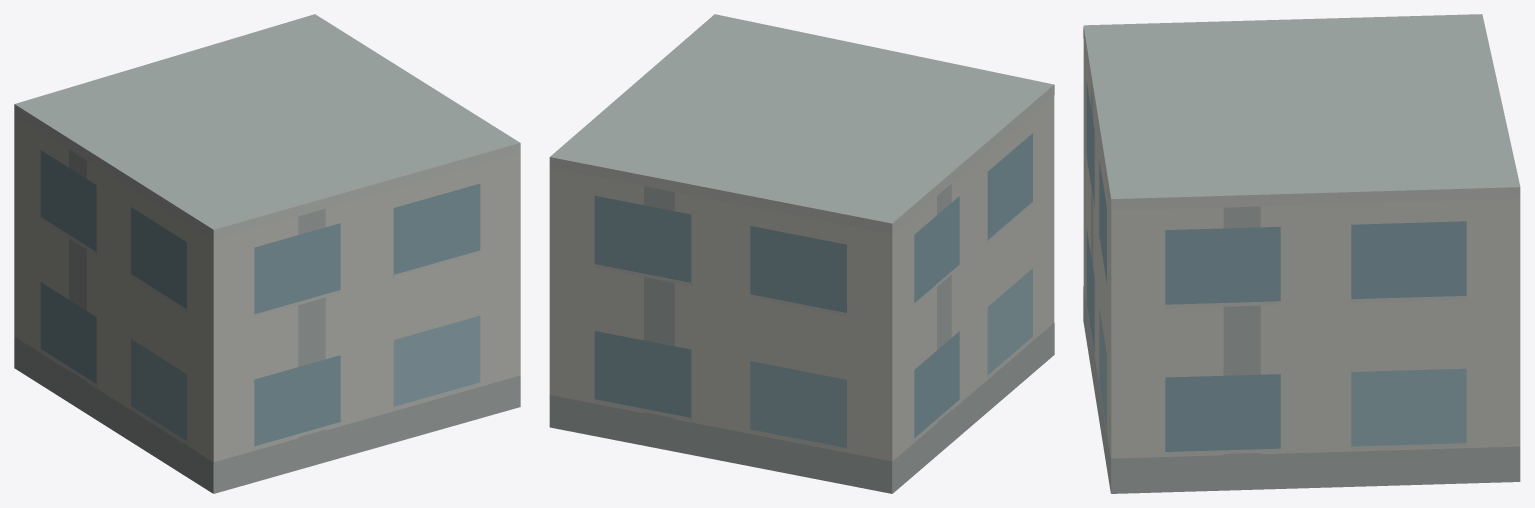
Rendered from survey-upis-32726894.glb.
3 renders of one model, left to right at view 1: azimuth 30°, elevation 25°; view 2: azimuth 150°, elevation 25°; view 3: azimuth 270°, elevation 25°, orthographic. The views are drawn at different scales.
Parts seen in each view (by area): view 1: survey-upis-32726894.tmp; view 2: survey-upis-32726894.tmp; view 3: survey-upis-32726894.tmp.
Boxes of the visible parts, box(x1,y1,x2,y2) form: survey-upis-32726894.tmp: box(14, 14, 520, 493); survey-upis-32726894.tmp: box(549, 14, 1054, 493); survey-upis-32726894.tmp: box(1083, 14, 1520, 493).
Bounding box in the file's own units: 8.23 × 6.1 × 8.21.
